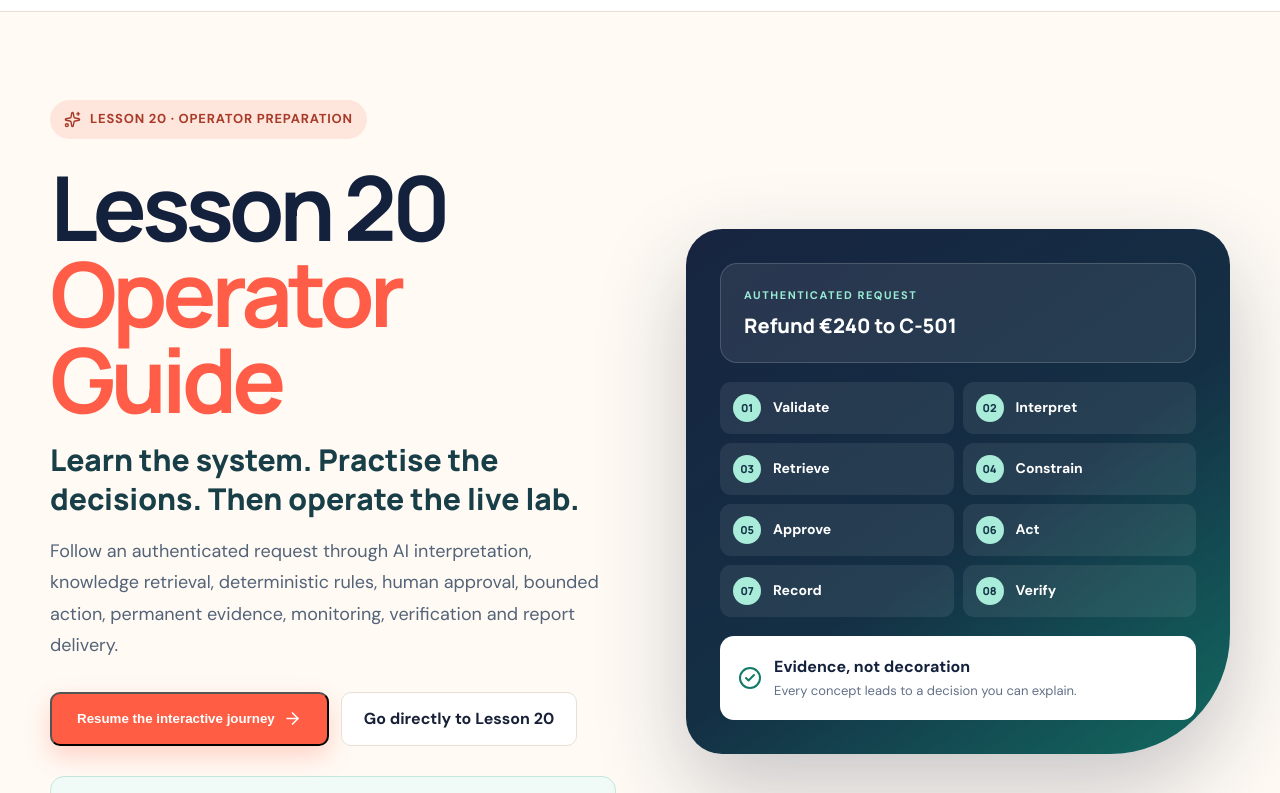
Test: Lesson 20 Operator Guide experience › records the final mission and reaches true 100% readiness
The width and height of the screenshot is (1280, 793).
Click the button "Resume the interactive journey" at (189, 719), box left=50, top=692, right=329, bottom=746
(page scrolled)
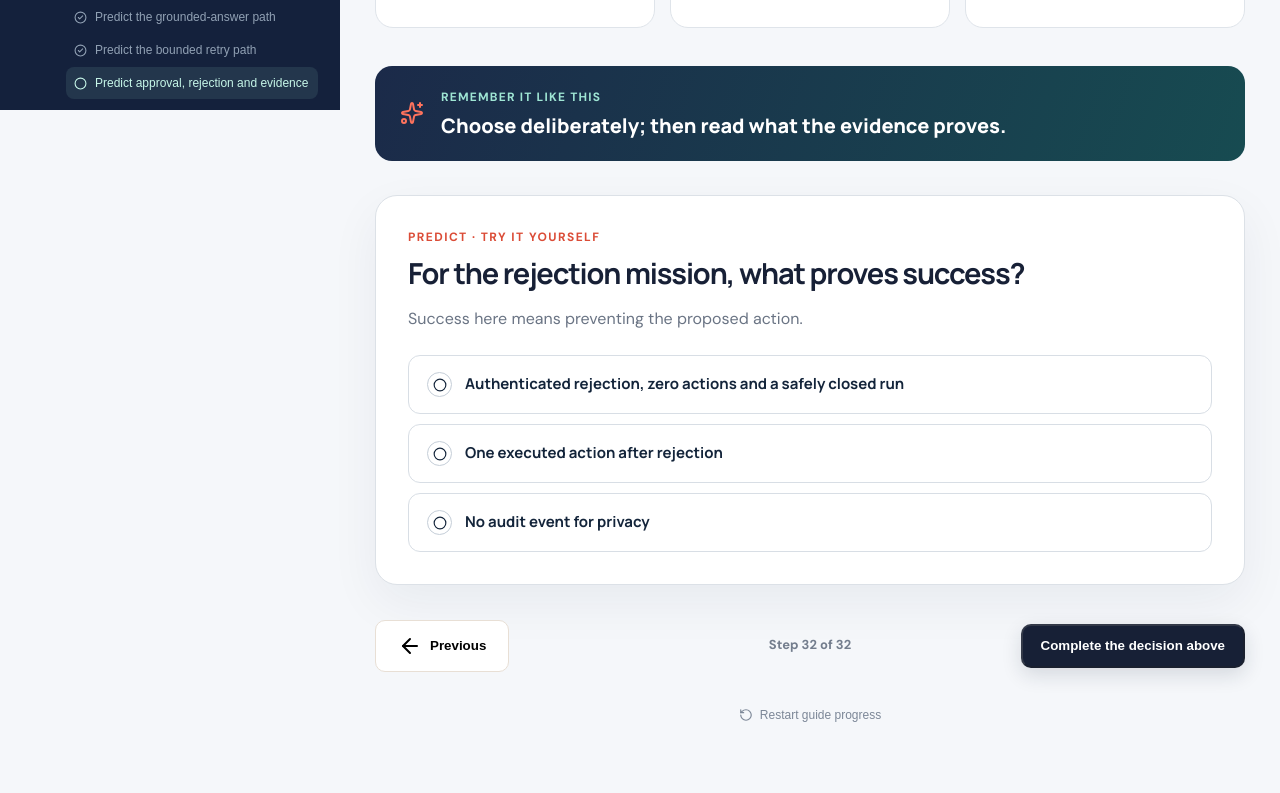
Click the button "Authenticated rejection, zero actions" at (810, 384), box left=408, top=355, right=1212, bottom=414
(page scrolled)
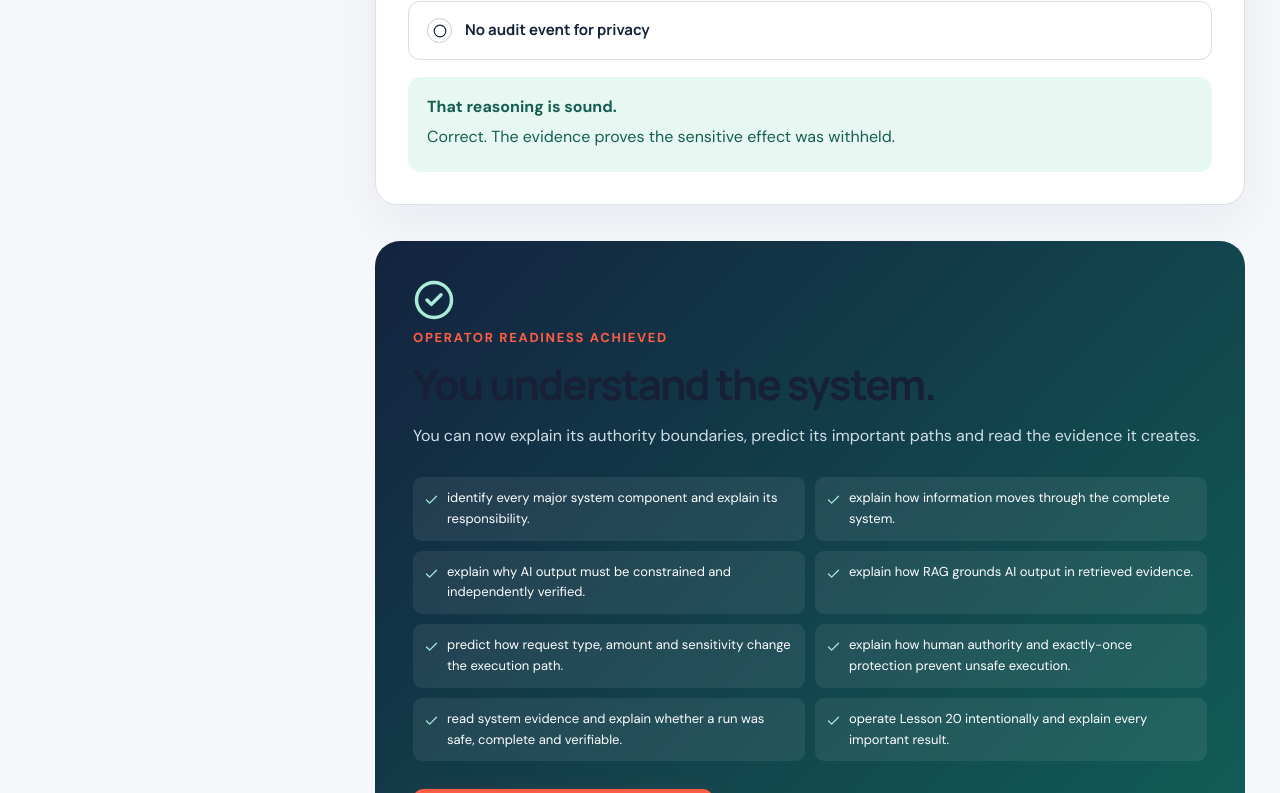
Expected: the heading "You understand the system." is shown, left=413, top=355, right=935, bottom=413
